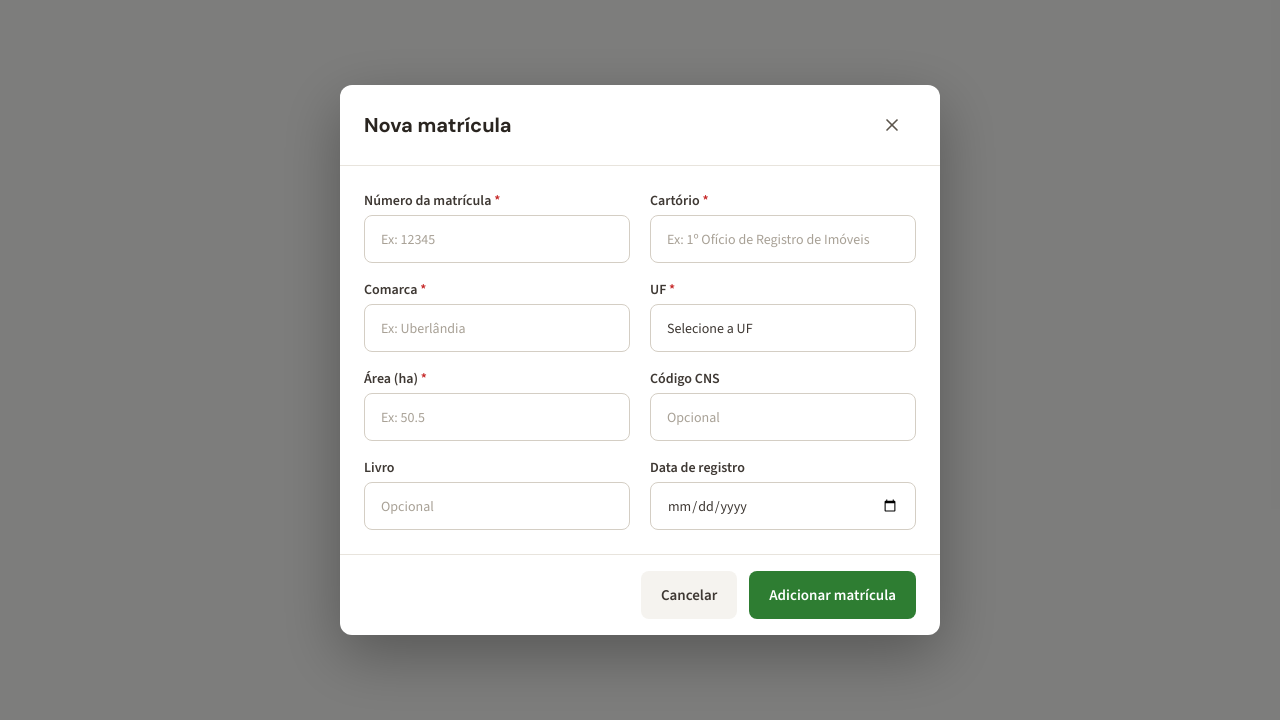
Test case: RegistrationFormModal › should not submit when required fields are empty
Click the button "Adicionar matrícula".
click(833, 595)  # box [749,571,916,619]
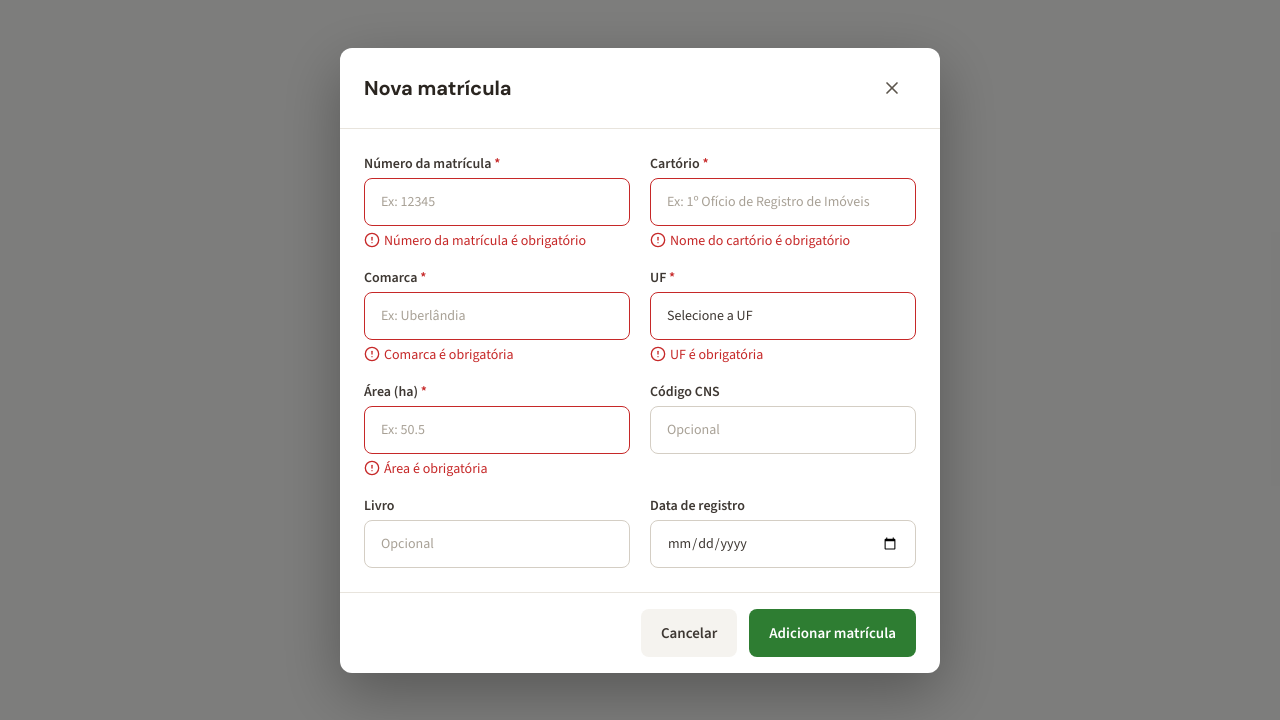
Check: the text "Número da matrícula é obrigatório" is shown, box [364,230,586,250]
